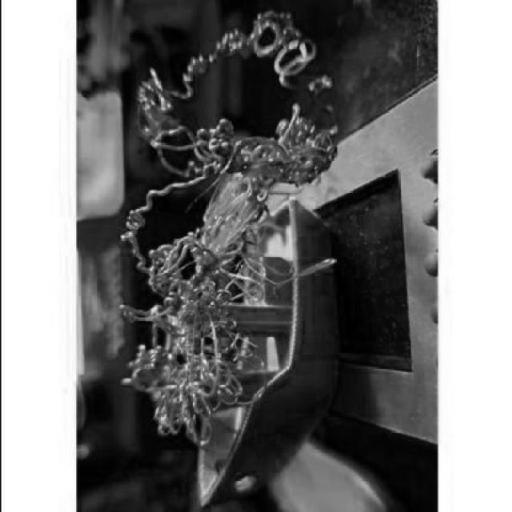spaghetti_and_stringing: (114, 10, 336, 448)
